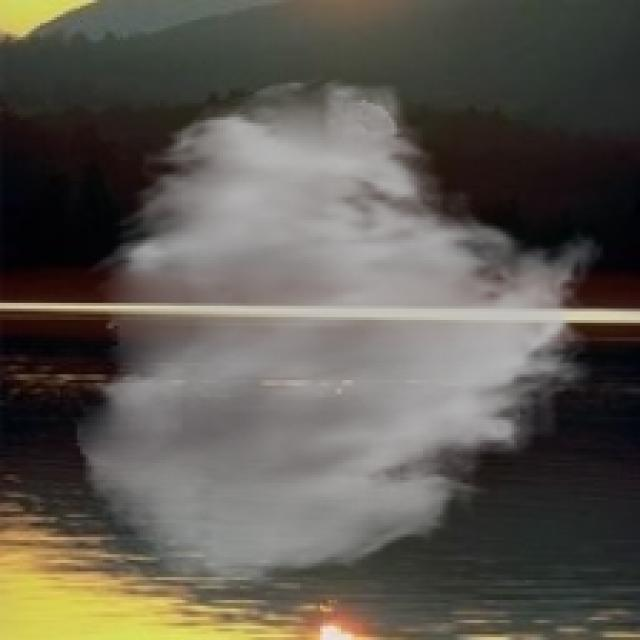smoke: (71, 75, 606, 594)
